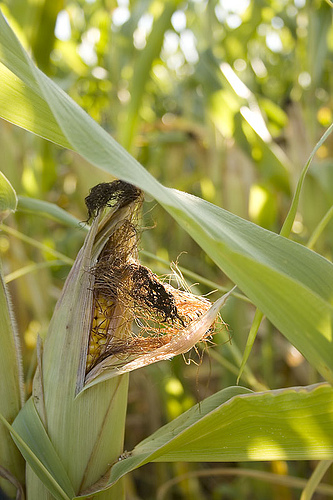corn: (26, 182, 145, 498), (87, 345, 100, 355)
